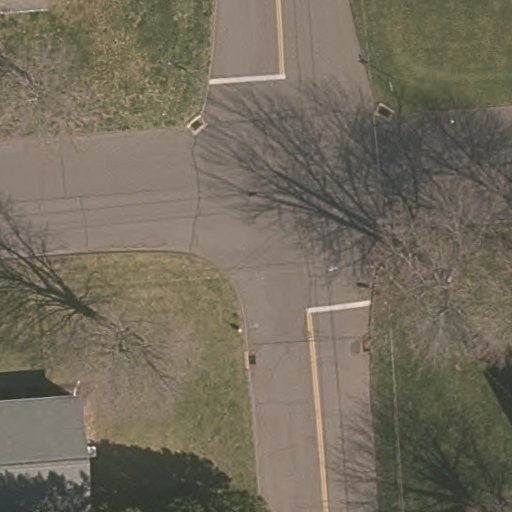DT: (315, 252, 405, 287)
